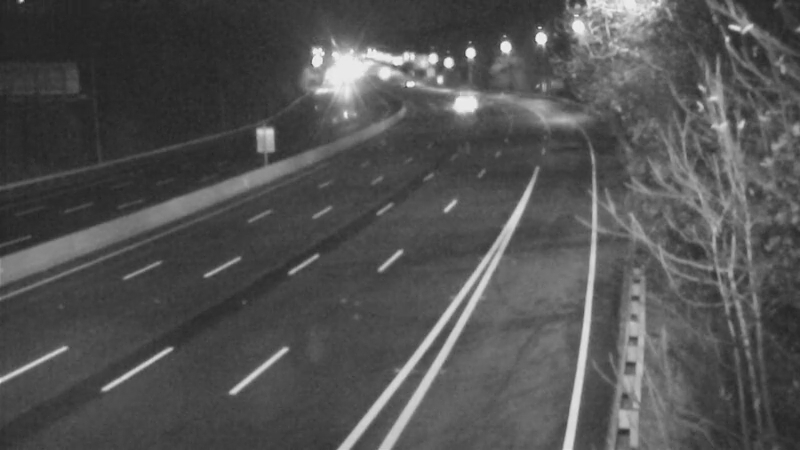vehicle: (357, 48, 407, 98), (380, 56, 430, 106), (440, 80, 490, 130)
